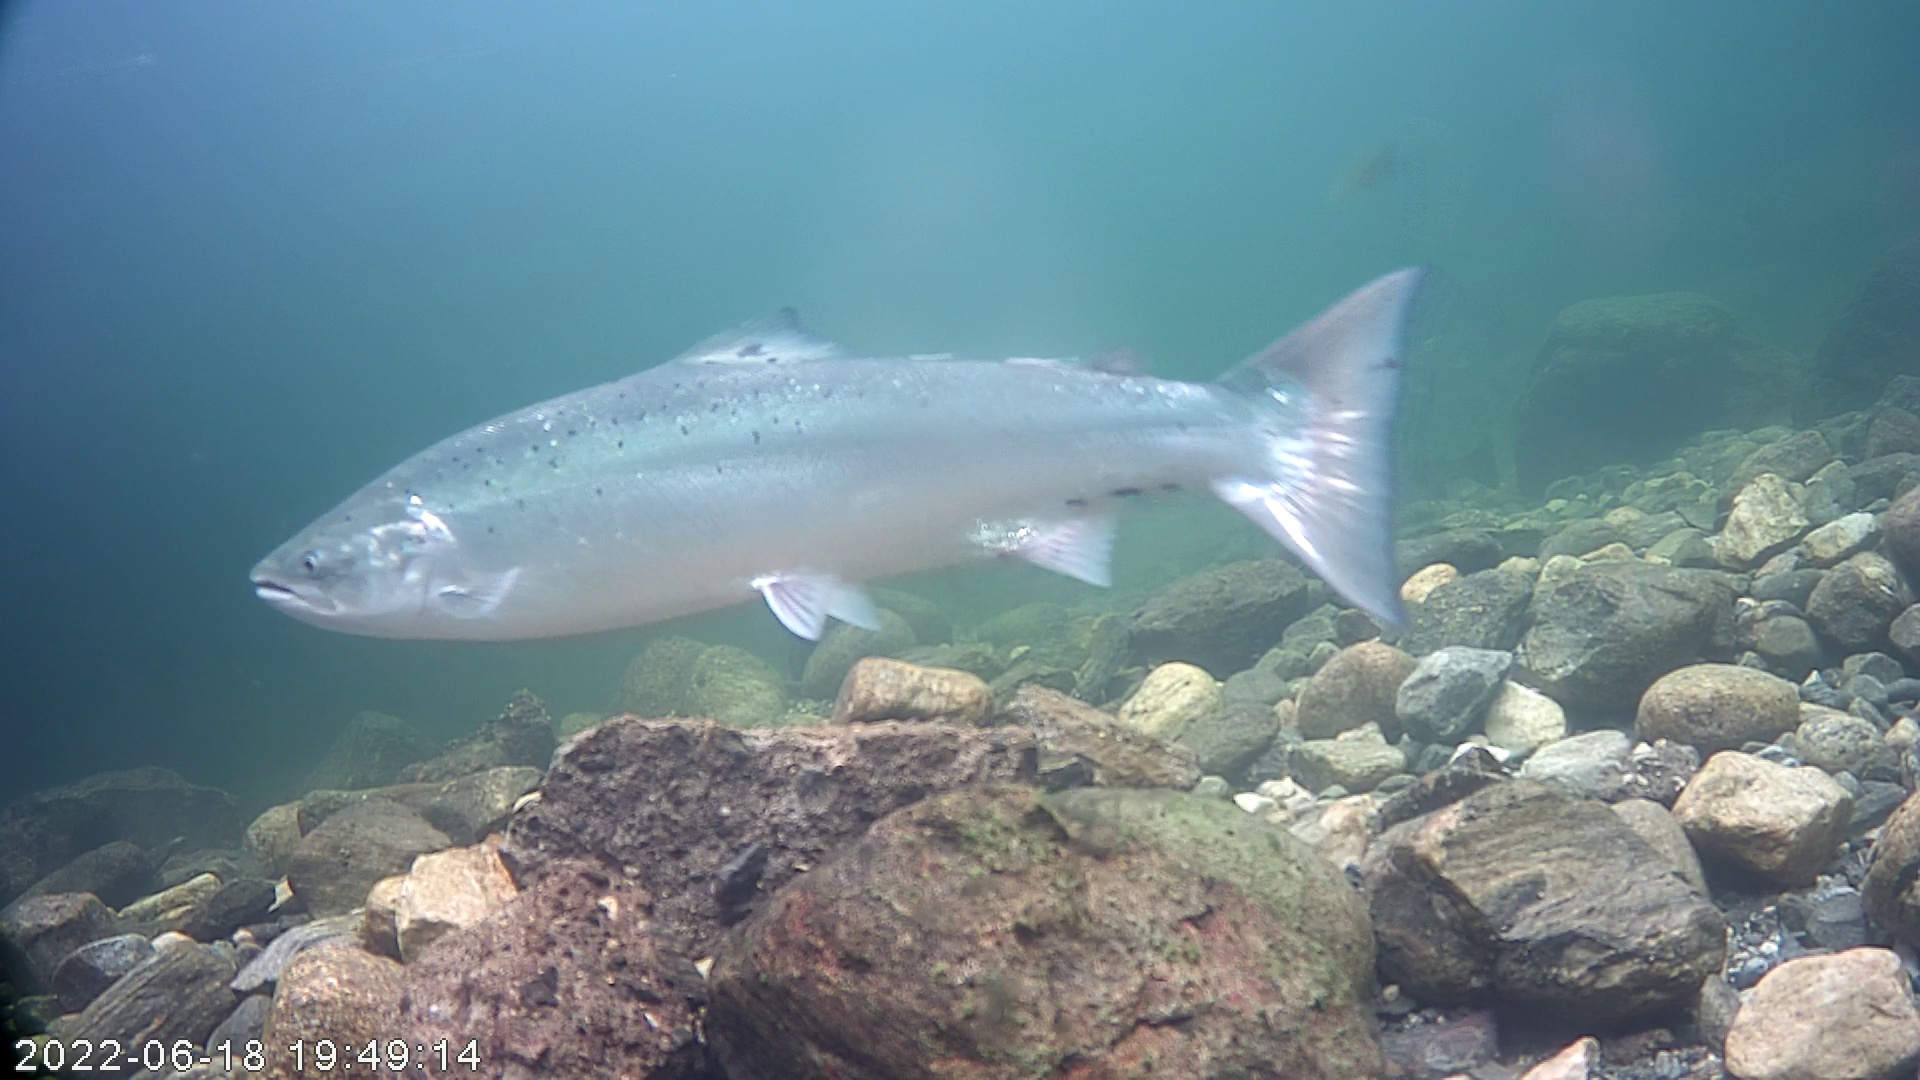salmon: (248, 262, 1424, 642)
